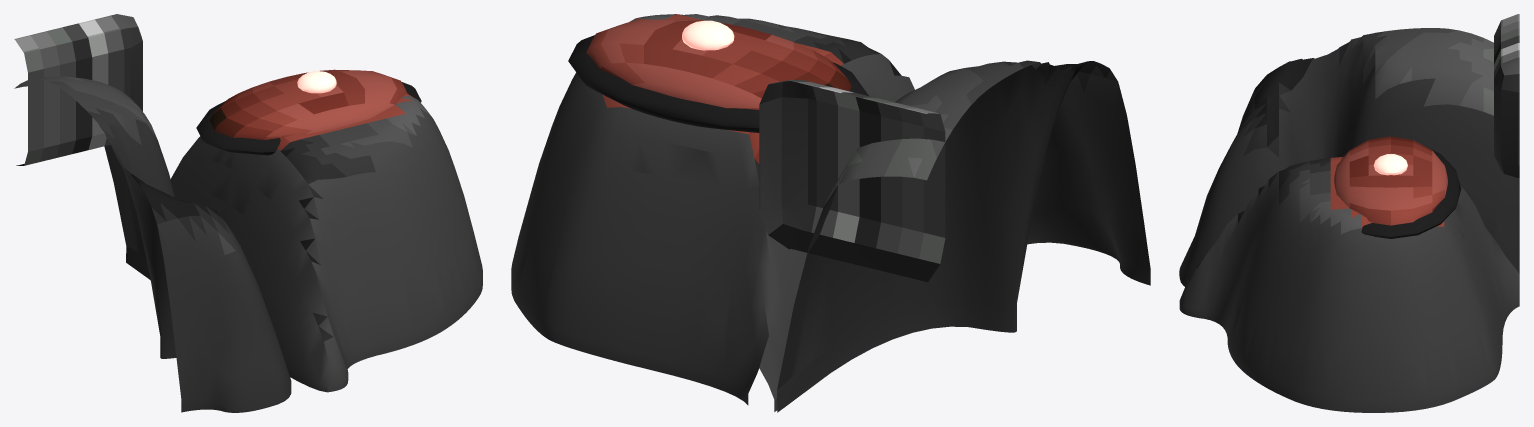
Rendered from deli_tower_55.glb.
The picture shows the model from 3 angles, left to right: view 1: azimuth 30°, elevation 25°; view 2: azimuth 150°, elevation 25°; view 3: azimuth 270°, elevation 25°; orthographic projection. The views are drawn at different scales.
Visible parts, largest first — view 1: deli_tower_55_capsule, deli_tower_55_hull, deli_tower_55_s4_low, deli_tower_55_capsule_lens, deli_tower_55_capsule_lens_rim, deli_tower_55_capsule_lens_bead; view 2: deli_tower_55_capsule, deli_tower_55_hull, deli_tower_55_s4_low, deli_tower_55_capsule_lens, deli_tower_55_capsule_lens_rim, deli_tower_55_capsule_lens_bead; view 3: deli_tower_55_capsule, deli_tower_55_hull, deli_tower_55_capsule_lens, deli_tower_55_s4_low, deli_tower_55_capsule_lens_rim, deli_tower_55_capsule_lens_bead.
Part boxes in pixels (box(x1,y1,x2,y2)): deli_tower_55_capsule: box(170, 94, 482, 392); deli_tower_55_hull: box(14, 76, 291, 412); deli_tower_55_s4_low: box(14, 14, 142, 165); deli_tower_55_capsule_lens: box(209, 69, 407, 139); deli_tower_55_capsule_lens_rim: box(196, 82, 421, 155); deli_tower_55_capsule_lens_bead: box(297, 71, 336, 93); deli_tower_55_capsule: box(511, 14, 914, 411); deli_tower_55_hull: box(777, 60, 1150, 412); deli_tower_55_s4_low: box(759, 79, 945, 282); deli_tower_55_capsule_lens: box(586, 19, 851, 109); deli_tower_55_capsule_lens_rim: box(568, 35, 868, 132); deli_tower_55_capsule_lens_bead: box(682, 20, 734, 50); deli_tower_55_capsule: box(1179, 157, 1519, 412); deli_tower_55_hull: box(1179, 28, 1519, 286); deli_tower_55_capsule_lens: box(1334, 136, 1447, 225); deli_tower_55_s4_low: box(1494, 14, 1519, 177); deli_tower_55_capsule_lens_rim: box(1338, 147, 1461, 238); deli_tower_55_capsule_lens_bead: box(1373, 154, 1407, 175).
Bounding box in the file's own units: 22.99 × 14.89 × 19.79.
